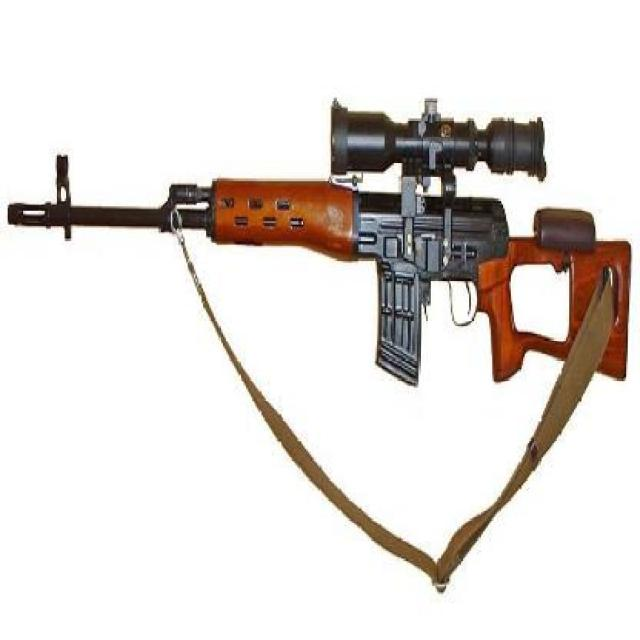weapon: (7, 91, 638, 405)
